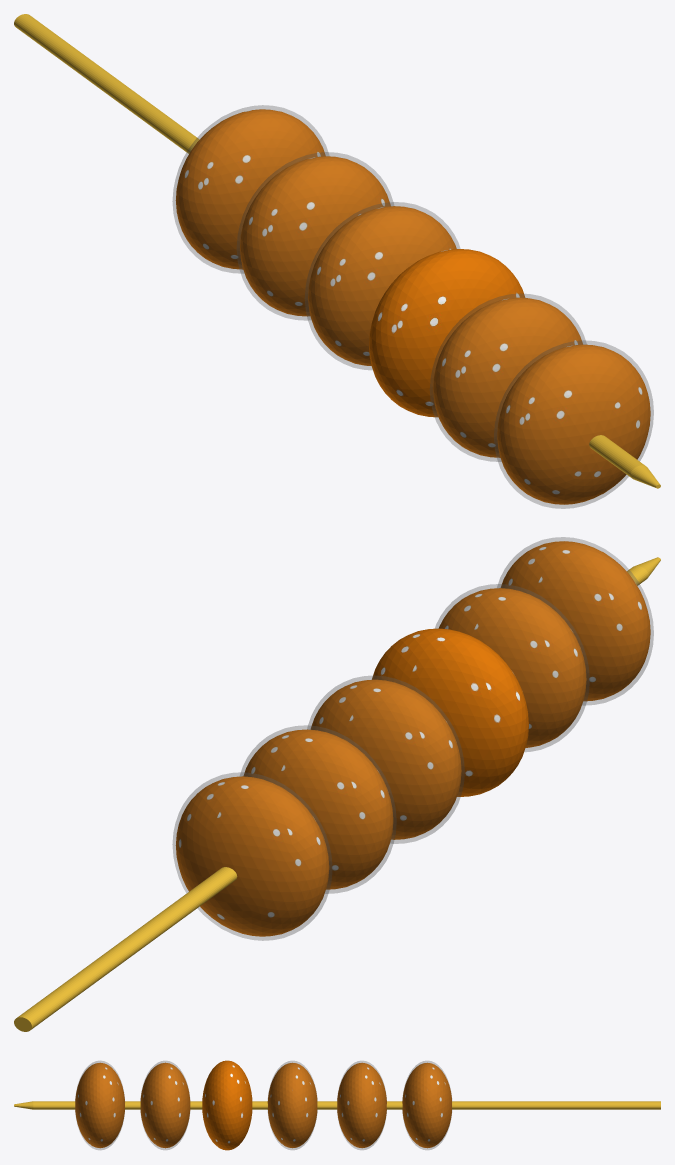
3 renders of one model, top to bottom at view 1: azimuth 30°, elevation 25°; view 2: azimuth 150°, elevation 25°; view 3: azimuth 270°, elevation 25°, orthographic. The views are drawn at different scales.
Parts seen in each view (by area): view 1: 棱角球.001, 棱角球, 棱角球.009, 棱角球.005, 棱角球.008, 棱角球.003, 棱角球.011, 棱角球.007, 棱角球.010, 棱角球.002, 棱角球.006, 柱体; view 2: 棱角球.011, 棱角球.010, 棱角球.007, 棱角球.005, 棱角球.006, 棱角球.001, 棱角球.009, 棱角球.008, 棱角球, 棱角球.003, 棱角球.002, 柱体; view 3: 棱角球.005, 棱角球.001, 棱角球.011, 棱角球.009, 棱角球.007, 棱角球.003, 棱角球.002, 棱角球, 棱角球.008, 棱角球.006, 棱角球.010, 柱体.
Part boxes in pixels (left/top/right/bottom): 棱角球.001: left=494, top=340, right=653, bottom=508; 棱角球: left=497, top=344, right=650, bottom=504; 棱角球.009: left=237, top=152, right=393, bottom=320; 棱角球.005: left=369, top=249, right=525, bottom=417; 棱角球.008: left=240, top=156, right=390, bottom=316; 棱角球.003: left=430, top=293, right=586, bottom=461; 棱角球.011: left=172, top=105, right=328, bottom=273; 棱角球.007: left=305, top=202, right=460, bottom=369; 棱角球.010: left=175, top=109, right=325, bottom=269; 棱角球.002: left=433, top=297, right=582, bottom=457; 棱角球.006: left=308, top=206, right=456, bottom=365; 柱体: left=14, top=14, right=660, bottom=488; 棱角球.011: left=172, top=772, right=332, bottom=940; 棱角球.010: left=175, top=776, right=329, bottom=936; 棱角球.007: left=307, top=675, right=464, bottom=843; 棱角球.005: left=372, top=628, right=528, bottom=796; 棱角球.006: left=311, top=679, right=461, bottom=839; 棱角球.001: left=497, top=537, right=653, bottom=705; 棱角球.009: left=240, top=725, right=396, bottom=893; 棱角球.008: left=243, top=729, right=393, bottom=889; 棱角球: left=501, top=541, right=650, bottom=701; 棱角球.003: left=435, top=584, right=589, bottom=751; 棱角球.002: left=438, top=588, right=586, bottom=747; 柱体: left=14, top=557, right=660, bottom=1031; 棱角球.005: left=202, top=1060, right=252, bottom=1150; 棱角球.001: left=75, top=1060, right=124, bottom=1150; 棱角球.011: left=402, top=1061, right=451, bottom=1149; 棱角球.009: left=337, top=1061, right=386, bottom=1149; 棱角球.007: left=268, top=1061, right=317, bottom=1149; 棱角球.003: left=140, top=1061, right=189, bottom=1149; 棱角球.002: left=140, top=1062, right=190, bottom=1148; 棱角球: left=75, top=1062, right=124, bottom=1148; 棱角球.008: left=337, top=1062, right=386, bottom=1148; 棱角球.006: left=267, top=1062, right=317, bottom=1148; 棱角球.010: left=402, top=1062, right=451, bottom=1148; 柱体: left=14, top=1101, right=660, bottom=1109.
Bounding box in the file's own units: 0.2095 × 0.2109 × 1.51.
Materials: 3 (2 with a texture image).
